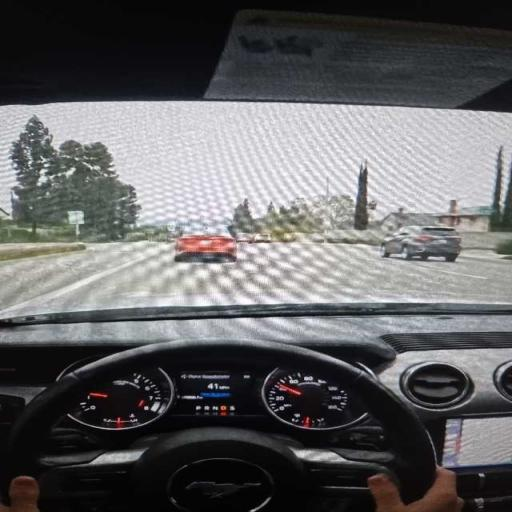car: (380, 226, 460, 261), (175, 227, 236, 261), (252, 233, 271, 243), (236, 233, 252, 243)
lane: (24, 244, 511, 310), (0, 243, 155, 310)
person: (368, 468, 463, 511), (0, 476, 39, 511)
